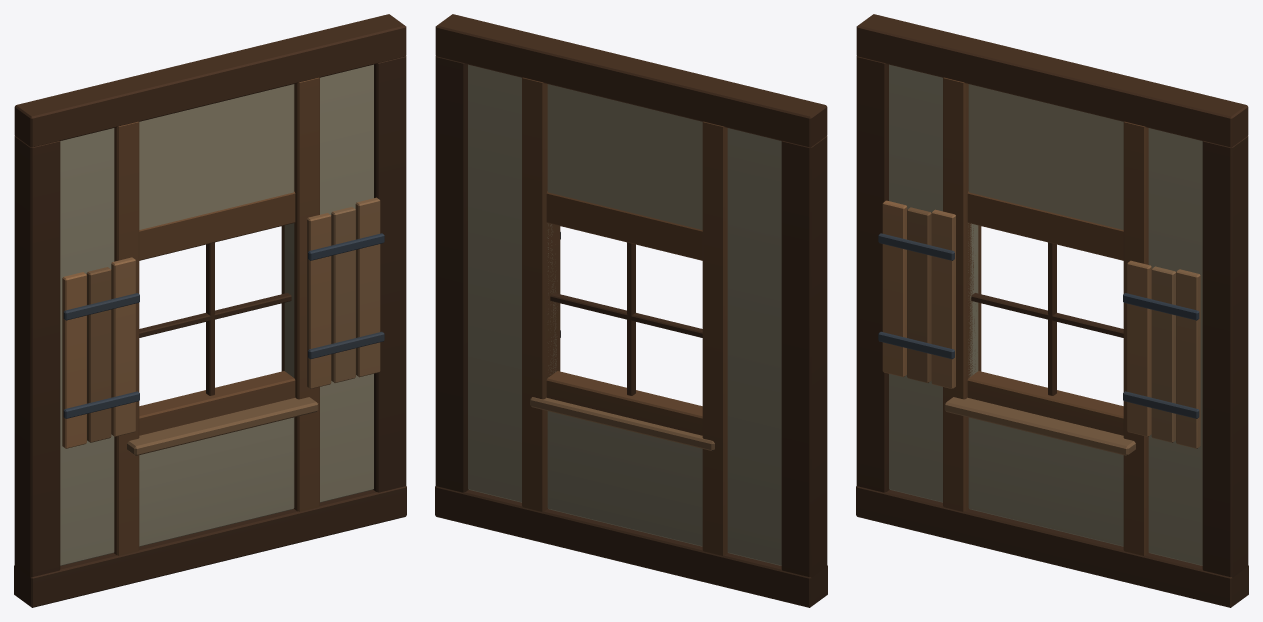
The model's file is piece_woodwindow.glb.
The picture shows the model from 3 angles, left to right: view 1: azimuth 30°, elevation 25°; view 2: azimuth 150°, elevation 25°; view 3: azimuth 330°, elevation 25°; orthographic projection.
Visible parts, largest first — view 1: Base; view 2: Base; view 3: Base.
Part boxes in pixels (box(x1,y1,x2,y2)): Base: box(14, 14, 406, 607); Base: box(435, 14, 827, 607); Base: box(856, 14, 1248, 607).
Bounding box in the file's own units: 4 × 4.99 × 0.5.
